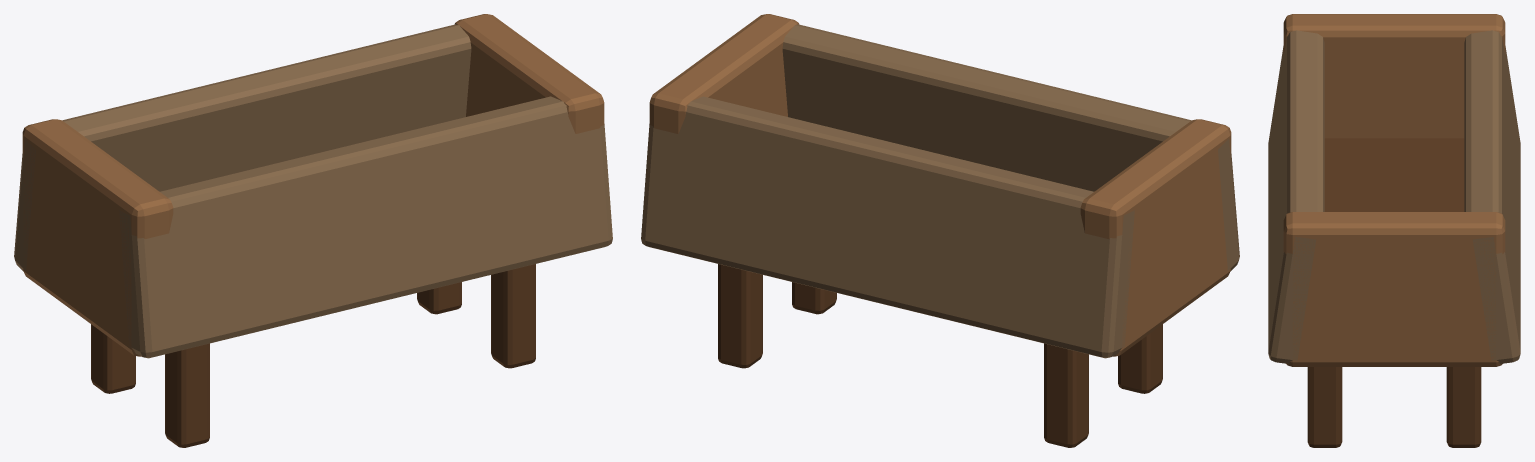
Rendered from trough_1p6.glb.
3 views of the same model, side by side, from view 1: azimuth 30°, elevation 25°; view 2: azimuth 150°, elevation 25°; view 3: azimuth 270°, elevation 25° (orthographic). The views are drawn at different scales.
Parts seen in each view (by area): view 1: trough_left, trough_right, trough_end_a, trough_end_b, trough_leg_-0.56_-0.22, trough_leg_+0.56_-0.22, trough_leg_-0.56_+0.22, trough_leg_+0.56_+0.22; view 2: trough_right, trough_left, trough_end_a, trough_end_b, trough_leg_-0.56_+0.22, trough_leg_+0.56_+0.22, trough_leg_-0.56_-0.22, trough_leg_+0.56_-0.22; view 3: trough_end_b, trough_end_a, trough_right, trough_left, trough_base, trough_leg_+0.56_-0.22, trough_leg_+0.56_+0.22.
Boxes of the visible parts, x1=… form: trough_left: x1=119, y1=96, x2=612, y2=358; trough_right: x1=14, y1=24, x2=471, y2=271; trough_end_a: x1=22, y1=119, x2=173, y2=356; trough_end_b: x1=454, y1=14, x2=604, y2=133; trough_leg_-0.56_-0.22: x1=165, y1=343, x2=209, y2=447; trough_leg_+0.56_-0.22: x1=491, y1=264, x2=535, y2=368; trough_leg_-0.56_+0.22: x1=91, y1=324, x2=135, y2=393; trough_leg_+0.56_+0.22: x1=417, y1=282, x2=461, y2=314; trough_right: x1=641, y1=96, x2=1134, y2=358; trough_left: x1=782, y1=24, x2=1239, y2=271; trough_end_a: x1=1080, y1=119, x2=1231, y2=356; trough_end_b: x1=649, y1=14, x2=799, y2=133; trough_leg_-0.56_+0.22: x1=1044, y1=343, x2=1088, y2=447; trough_leg_+0.56_+0.22: x1=718, y1=264, x2=762, y2=368; trough_leg_-0.56_-0.22: x1=1118, y1=324, x2=1162, y2=393; trough_leg_+0.56_-0.22: x1=792, y1=282, x2=836, y2=314; trough_end_b: x1=1283, y1=212, x2=1505, y2=366; trough_end_a: x1=1283, y1=14, x2=1505, y2=138; trough_right: x1=1464, y1=30, x2=1520, y2=363; trough_left: x1=1268, y1=30, x2=1324, y2=363; trough_base: x1=1324, y1=138, x2=1464, y2=211; trough_leg_+0.56_-0.22: x1=1307, y1=367, x2=1342, y2=447; trough_leg_+0.56_+0.22: x1=1446, y1=367, x2=1481, y2=447.
Size of the model in its own units: 1.62 by 0.87 by 0.7983.
